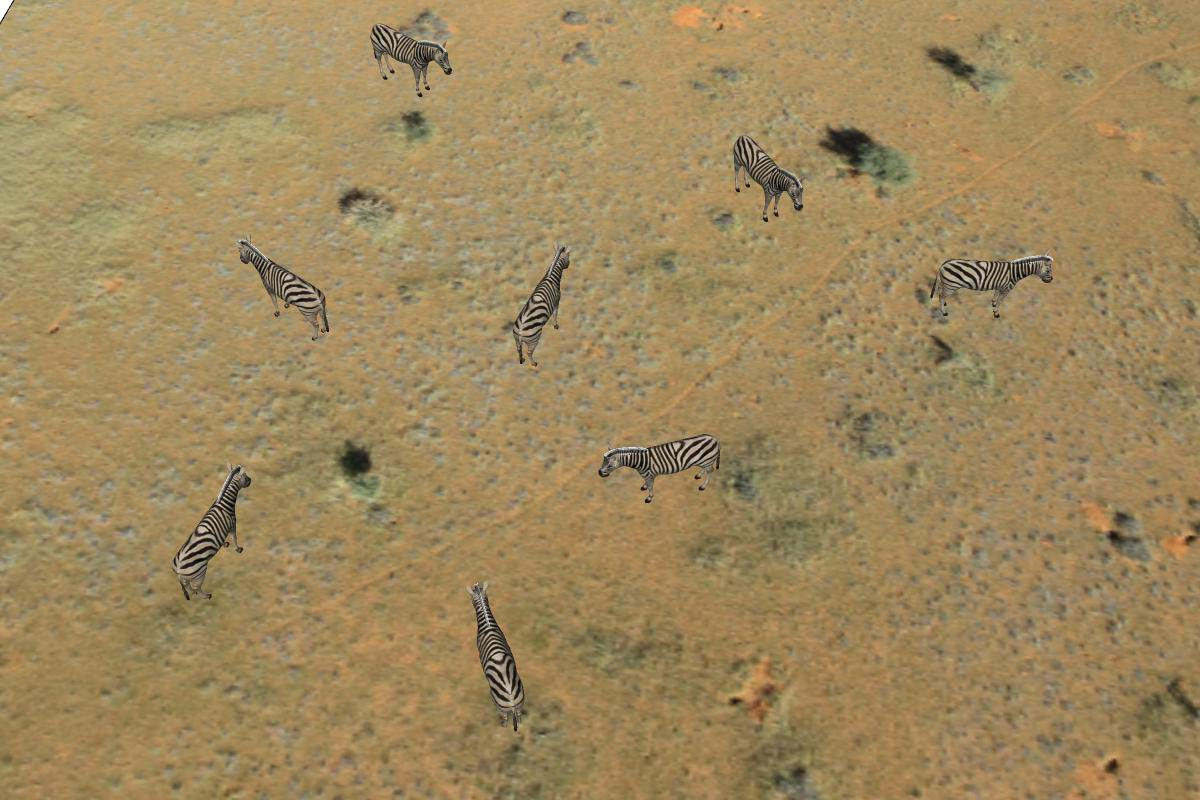zebra: (169, 460, 261, 608), (455, 581, 530, 738), (928, 238, 1057, 327), (584, 435, 732, 508), (232, 238, 334, 340), (715, 129, 813, 229), (363, 13, 459, 100), (507, 238, 569, 371)
